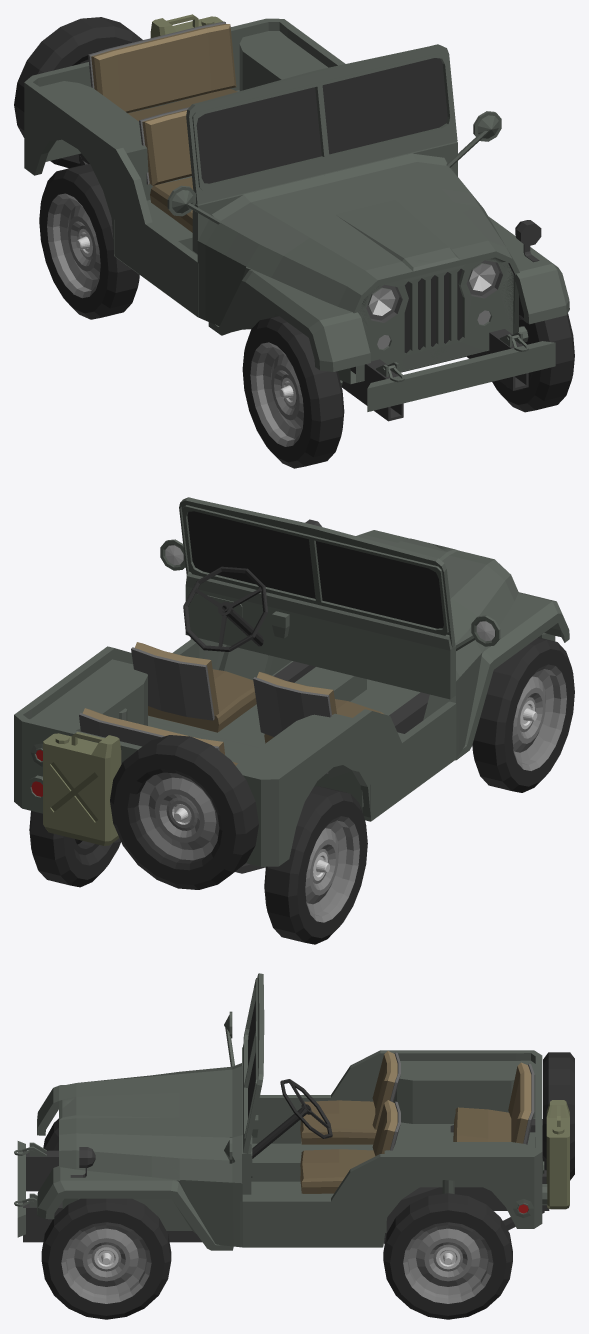
Rendered from MilitaryJeep.fbx.
The picture shows the model from 3 angles, top to bottom: view 1: azimuth 30°, elevation 25°; view 2: azimuth 150°, elevation 25°; view 3: azimuth 270°, elevation 25°; orthographic projection. The views are drawn at different scales.
Parts seen in each view (by area): view 1: JeepBody.032, JeepBody, JeepBody.036, JeepBody_cell.002, Jeep_Wheel.Fr_R, JeepBody_cell.004, Jeep_Wheel.Bk_R, JeepBody.045, JeepBody.015, JeepBody.003, Jeep_Wheel_Backup, Jeep_Wheel.Fr_L (+14 smaller); view 2: JeepBody.036, JeepBody.032, Jeep_Wheel_Backup, Jeep_Wheel.Fr_R, Jeep_Wheel.Bk_R, JeepBody.033, JeepBody.051, JeepBody, JeepBody.015, JeepBody.012, Jeep_Wheel.Bk_L, JeepBody.024 (+13 smaller); view 3: JeepBody.036, JeepBody_cell.002, Jeep_Wheel.Bk_L, Jeep_Wheel.Fr_L, JeepBody_cell.004, JeepBody, JeepBody.001, JeepBody_cell.001, JeepBody.025, JeepBody.032, JeepBody.004, JeepBody.051 (+14 smaller).
Boxes of the visible parts, x1,y1,x2,y2 form: JeepBody.032: (186, 44, 457, 204); JeepBody: (197, 154, 519, 384); JeepBody.036: (24, 18, 345, 317); JeepBody_cell.002: (197, 160, 519, 382); Jeep_Wheel.Fr_R: (242, 315, 344, 468); JeepBody_cell.004: (114, 159, 517, 364); Jeep_Wheel.Bk_R: (39, 164, 139, 319); JeepBody.045: (88, 21, 236, 112); JeepBody.015: (208, 270, 370, 371); JeepBody.003: (367, 341, 555, 411); Jeep_Wheel_Backup: (14, 17, 142, 168); Jeep_Wheel.Fr_L: (492, 295, 574, 412); JeepBody.036: (14, 639, 456, 866); JeepBody.032: (179, 497, 455, 650); Jeep_Wheel_Backup: (110, 735, 258, 889); Jeep_Wheel.Fr_R: (472, 637, 574, 792); Jeep_Wheel.Bk_R: (264, 786, 367, 944); JeepBody.033: (185, 586, 455, 699); JeepBody.051: (43, 733, 121, 845); JeepBody: (190, 530, 518, 821); JeepBody.015: (423, 592, 569, 760); JeepBody.012: (131, 642, 218, 720); Jeep_Wheel.Bk_L: (29, 811, 120, 887); JeepBody.024: (253, 672, 336, 736); JeepBody.036: (240, 1050, 547, 1247); JeepBody_cell.002: (59, 1063, 290, 1246); Jeep_Wheel.Bk_L: (383, 1193, 512, 1319); Jeep_Wheel.Fr_L: (41, 1198, 171, 1319); JeepBody_cell.004: (59, 1065, 242, 1247); JeepBody: (59, 1065, 382, 1247); JeepBody.001: (37, 1166, 233, 1250); JeepBody_cell.001: (76, 1068, 340, 1247); JeepBody.025: (300, 1100, 376, 1144); JeepBody.032: (243, 973, 264, 1153); JeepBody.004: (23, 1170, 549, 1242); JeepBody.051: (546, 1100, 569, 1209).
Bounding box in the file's own units: 498 × 420 × 865.
